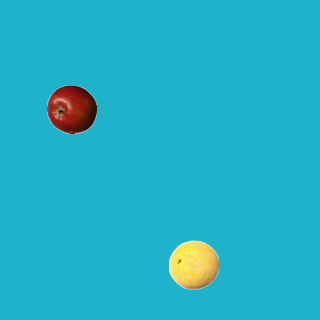Apple Braeburn: (46, 84, 96, 134)
Cantaloupe 1: (168, 239, 218, 289)
